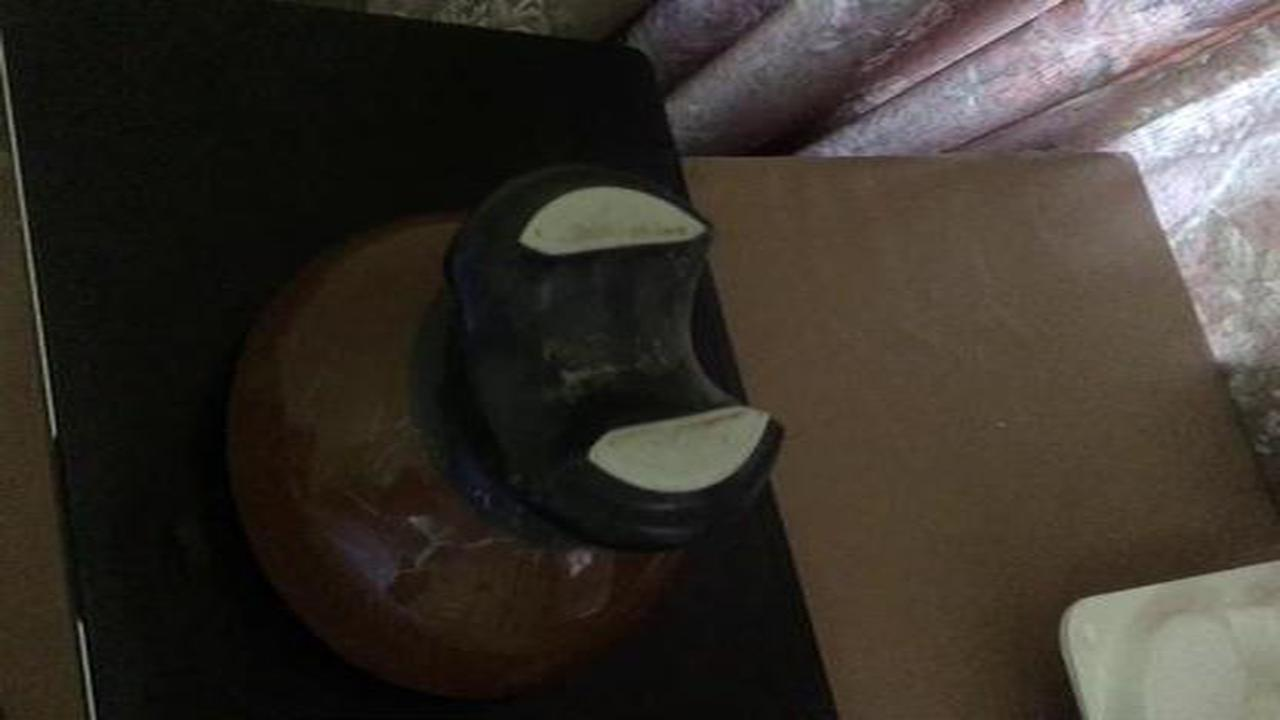insulator_pin: (188, 148, 797, 708)
